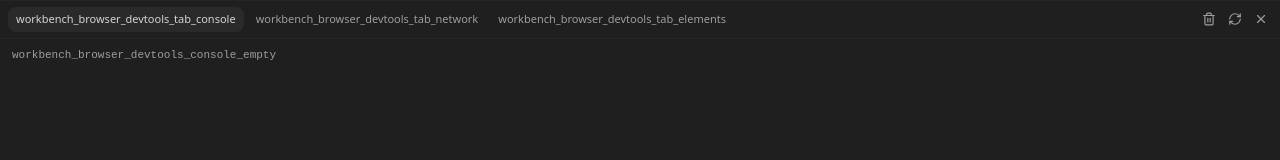
Scenario: BrowserDevtoolsPanel › executa script na sub-aba Elements e mostra o resultado
This screenshot has width=1280, height=160.
Expected: the text "workbench_browser_devtools_console_empty" is shown, [12,48,276,60]
Click the button with test id "devtools-subtab-elements" at (612, 19), box [490,7,734,32]
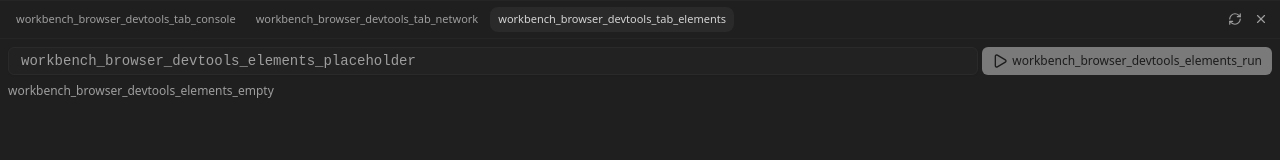
Type "document.title" into the field with placeholder "workbench_browser_devtools_elements_placeholder" at (493, 60), box [8,46,978,74]
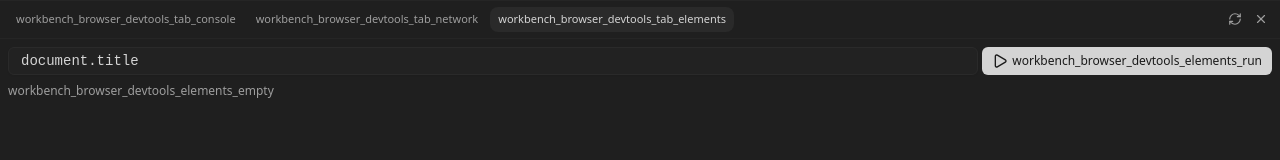
Click the button "workbench_browser_devtools_elements_run" at (1127, 60), box [982,46,1272,74]
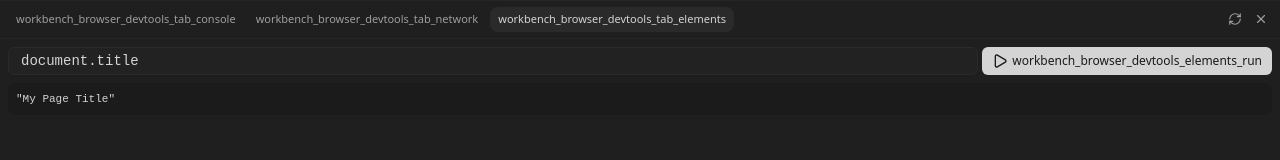
Now the text with test id "devtools-eval-result" shows "My Page Title", box [16,92,115,104]
